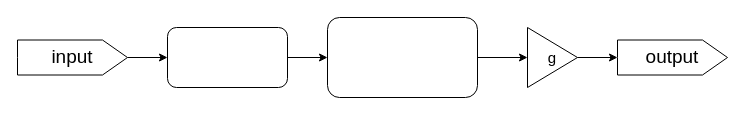
This 745x115 diagram has some shape labels left out. The shapes that lost their labels are listed below. From the top down, each one's centre as x and y in pixels, then its label:
At point (227, 57): "LPF".
At point (402, 57): "resonator".
